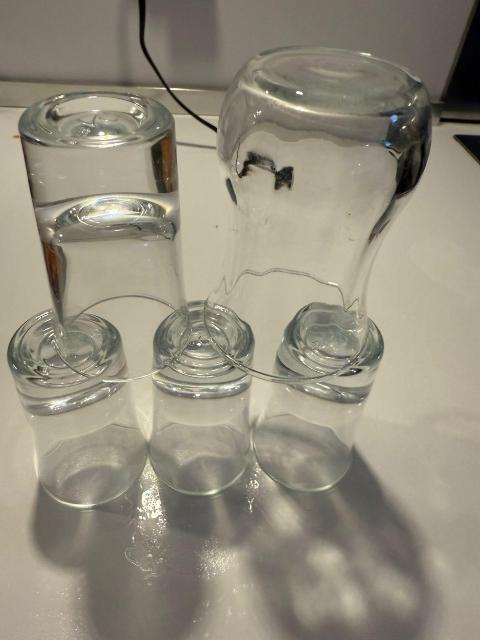Cam: (11, 51, 429, 488), (213, 44, 401, 369), (17, 89, 205, 377), (5, 305, 149, 501), (145, 316, 257, 493), (267, 327, 372, 493)
